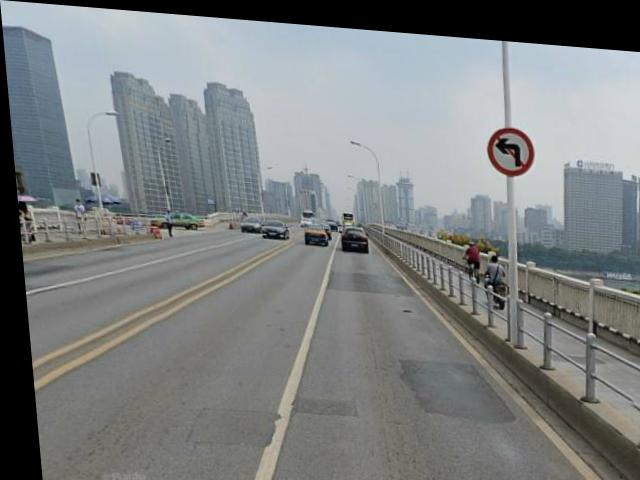not_turn_left: (481, 113, 536, 169)
